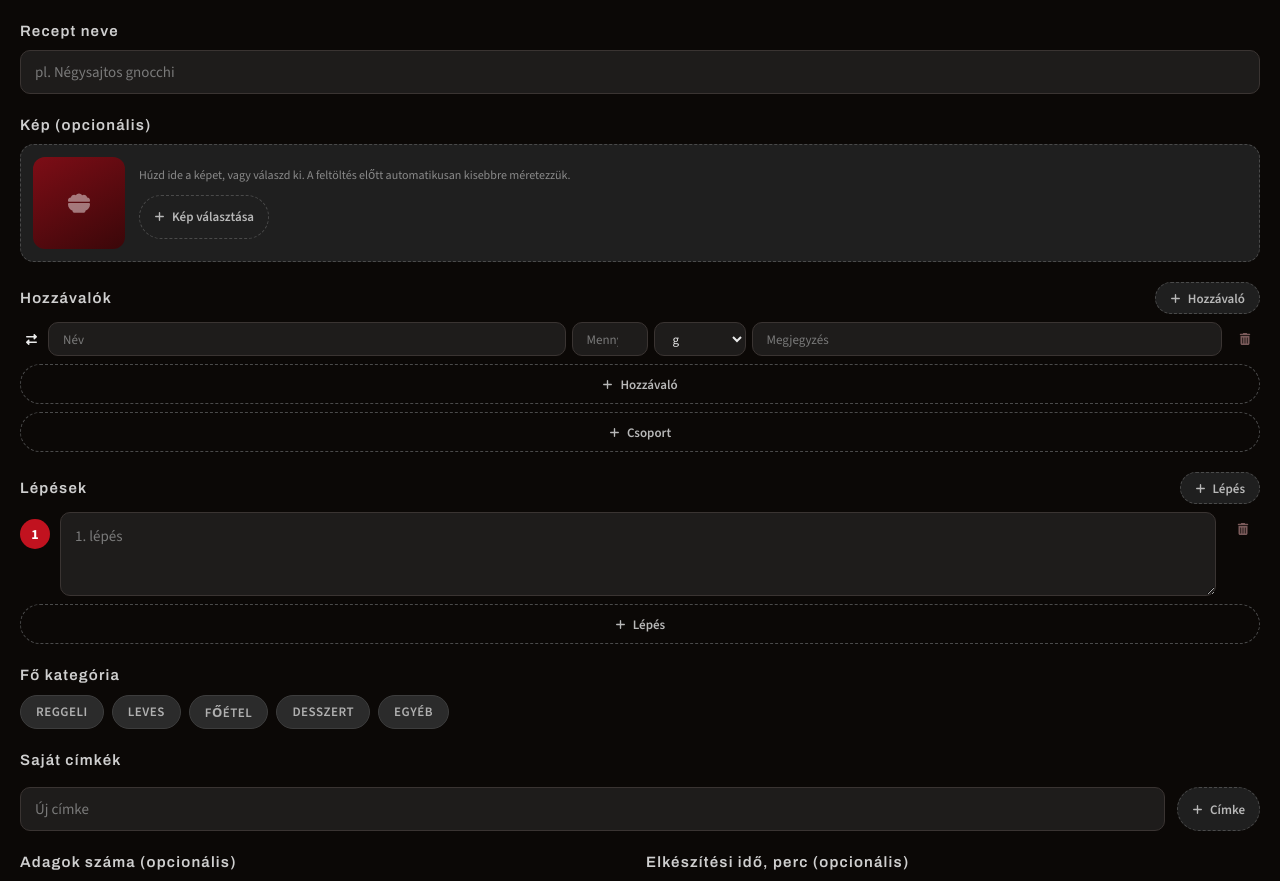
Scenario: NewRecipeForm adding rows from the bottom › adds an ingredient row from the trailing button
Expected: the number of fields with placeholder "Név" is 1, [48, 322, 566, 356]
Click the 2nd button "Hozzávaló" at {"x": 640, "y": 384}, box [20, 364, 1260, 404]
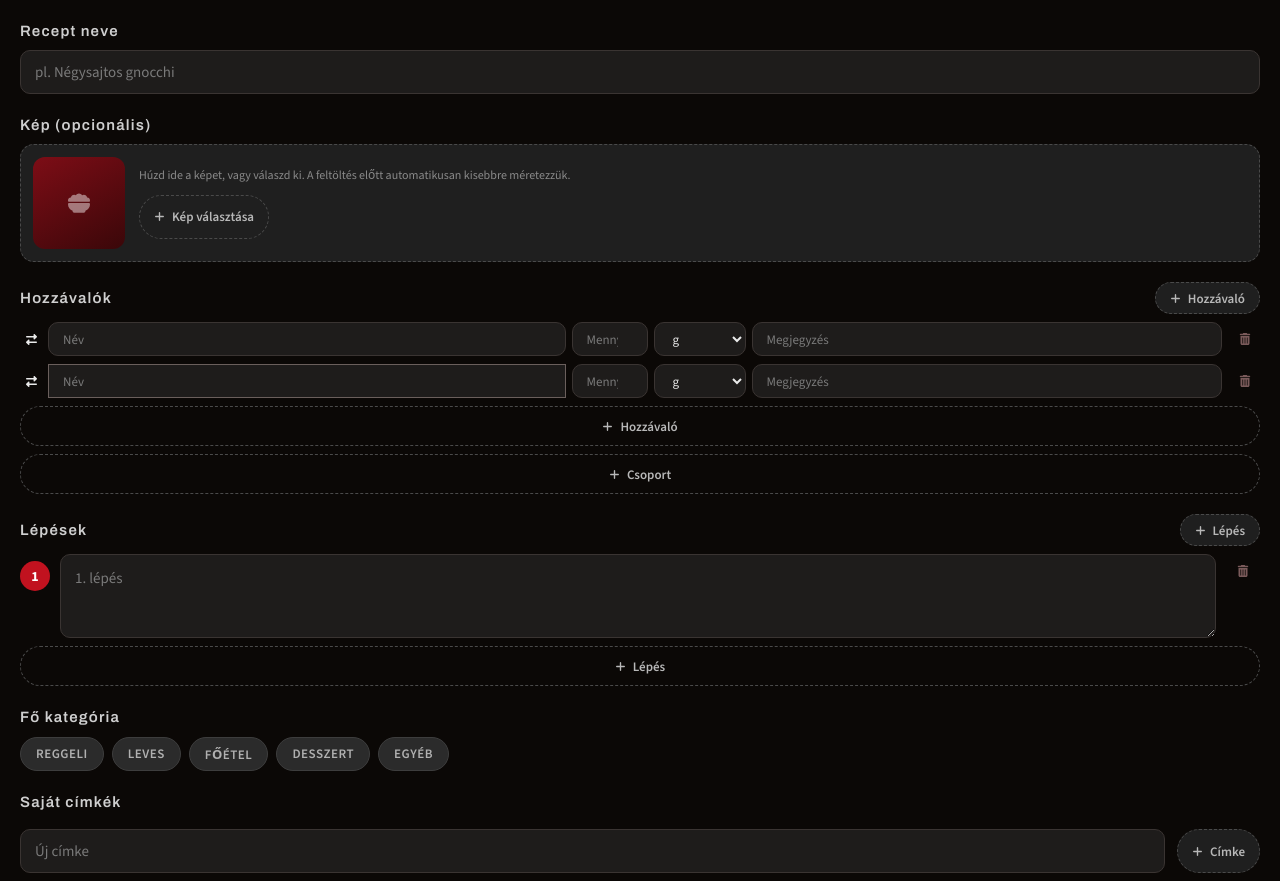
Result: the number of fields with placeholder "Név" is 2 at [48, 322, 566, 356]; [48, 364, 566, 398]
